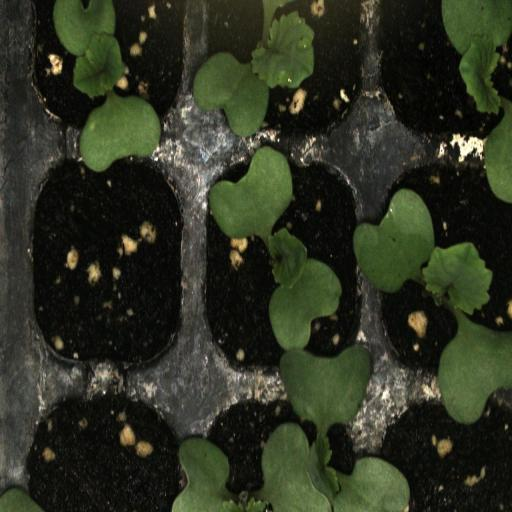noseedling: (26, 160, 194, 374)
seedling: (190, 160, 373, 376), (373, 164, 512, 396), (196, 0, 371, 160), (25, 0, 196, 158), (372, 0, 512, 159)
twoseedling: (189, 375, 376, 512)
